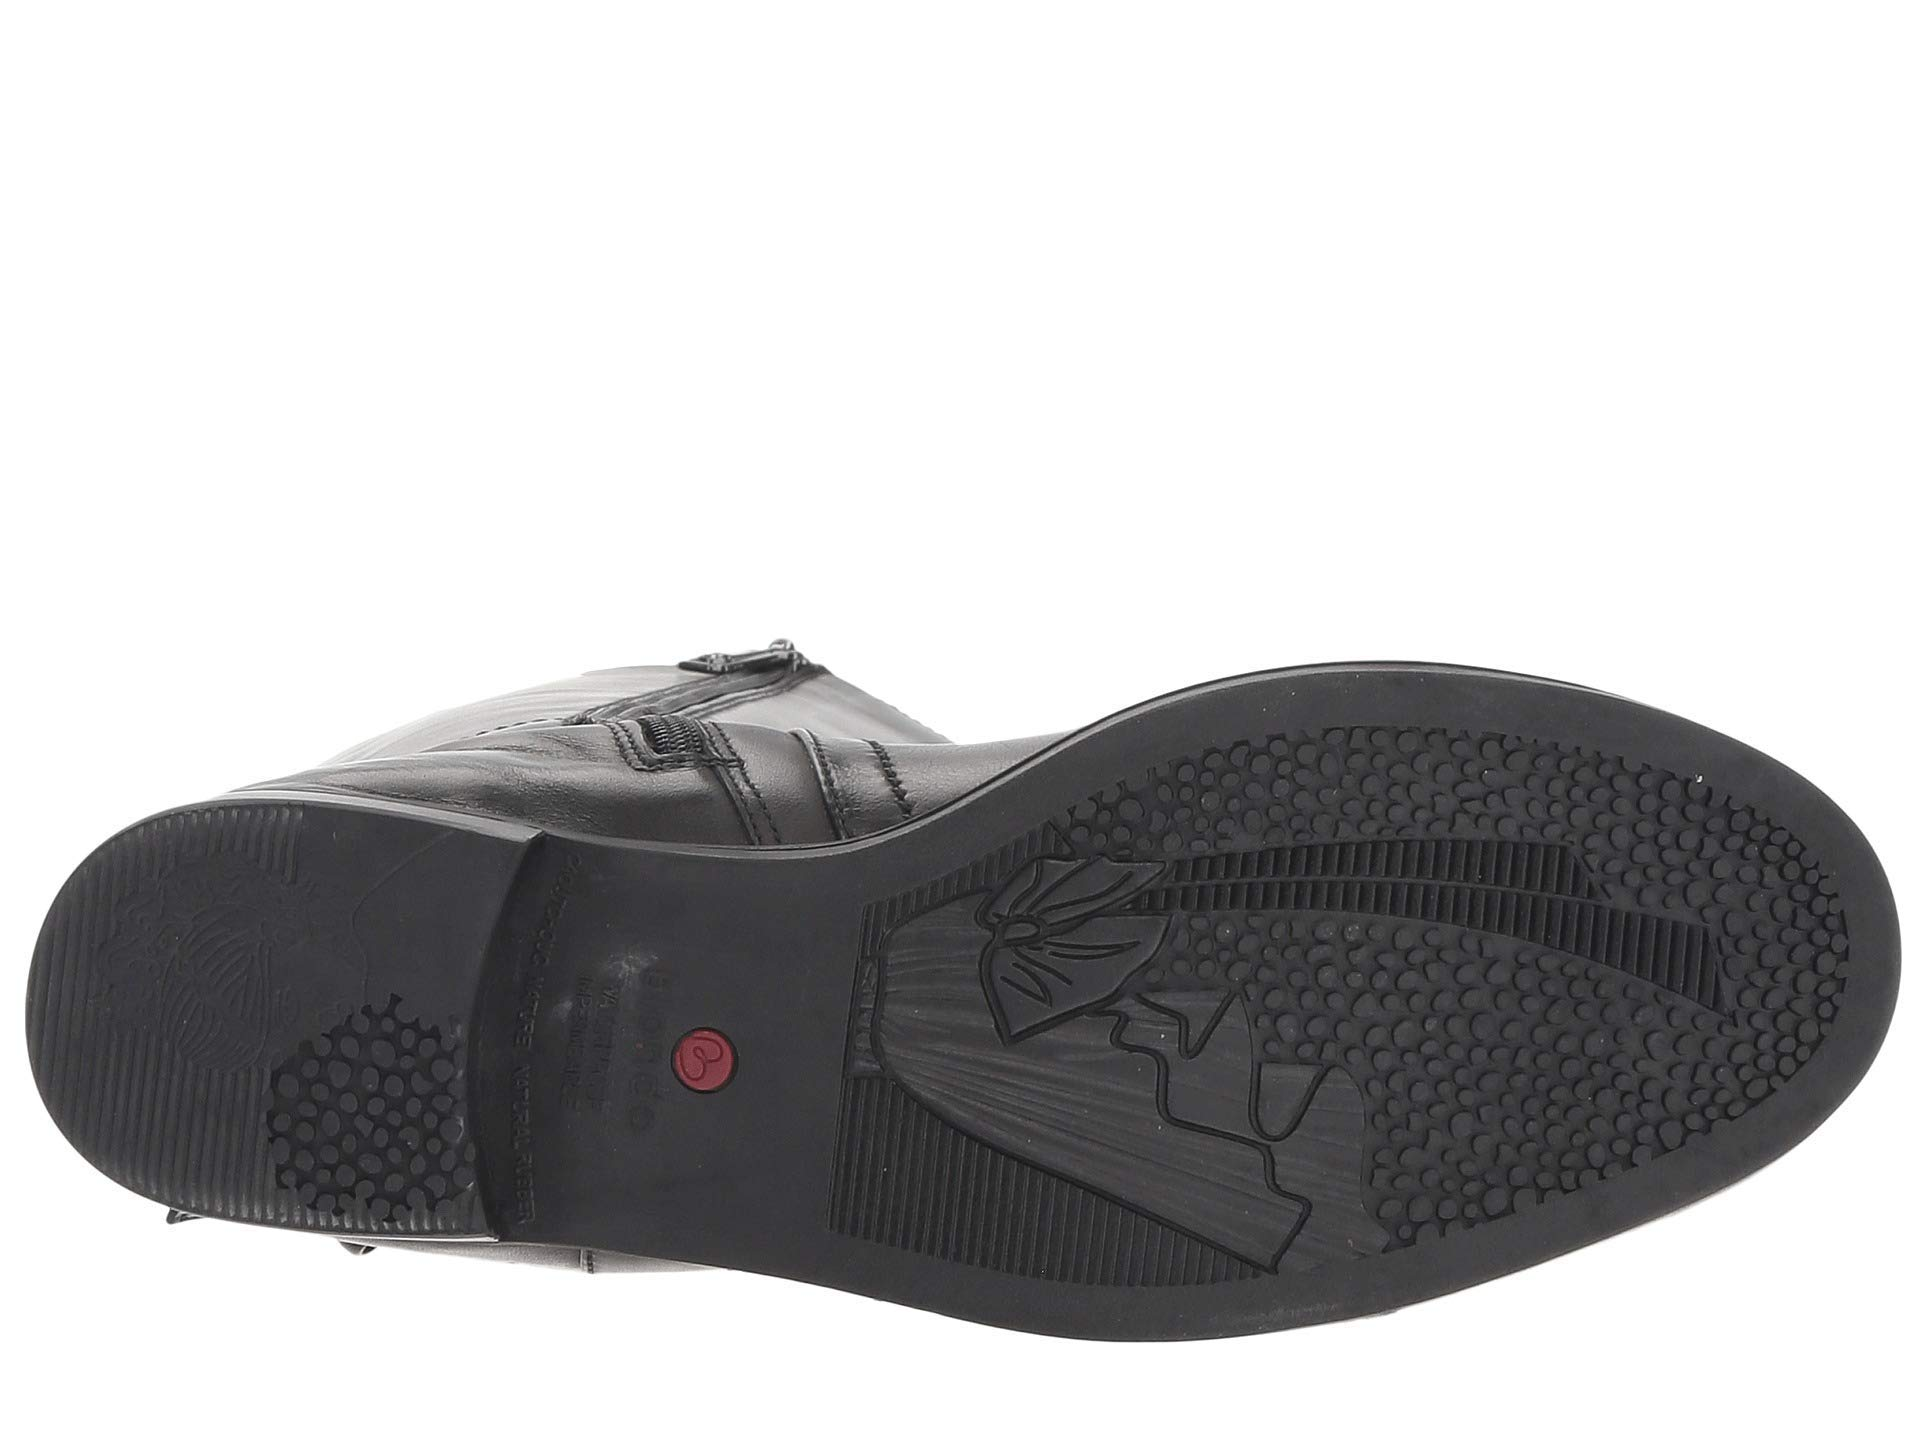chevron: (1002, 954, 1070, 1027)
circle: (1628, 777, 1791, 1100), (1377, 979, 1627, 1171), (1255, 744, 1593, 839), (293, 1054, 451, 1203), (662, 1010, 757, 1110)
line: (856, 1109, 1126, 1299), (80, 1042, 249, 1178)
quad: (1628, 777, 1791, 1100), (1234, 850, 1562, 932)
